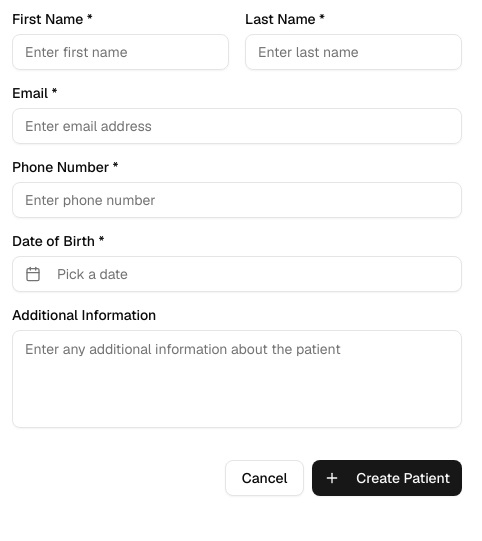
Test case: CreatePatientForm › Email Validation › validates email uniqueness against existing patients
Type "john.doe@example.com" into the field labelled "Email *" at (237, 126), box left=12, top=108, right=462, bottom=144
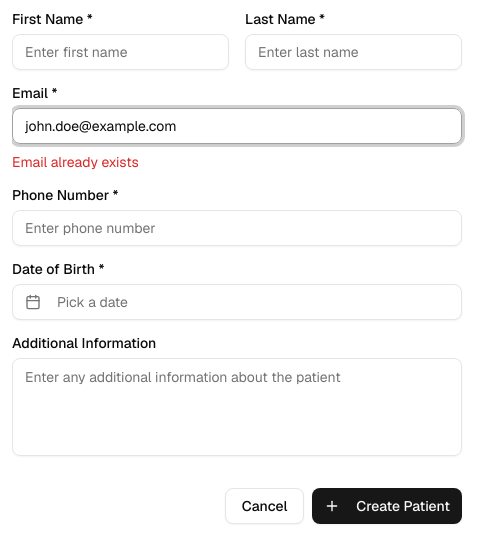
Now the text "Email already exists" is shown, box left=12, top=153, right=139, bottom=171
